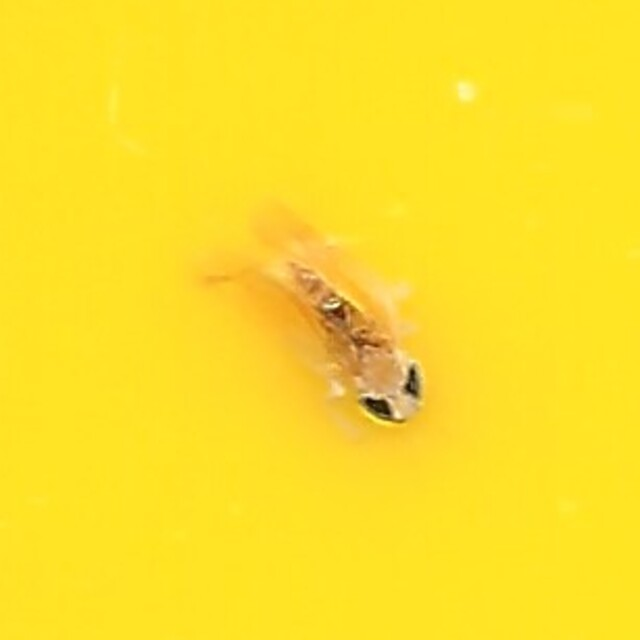Hemiptera: (208, 211, 432, 429)
